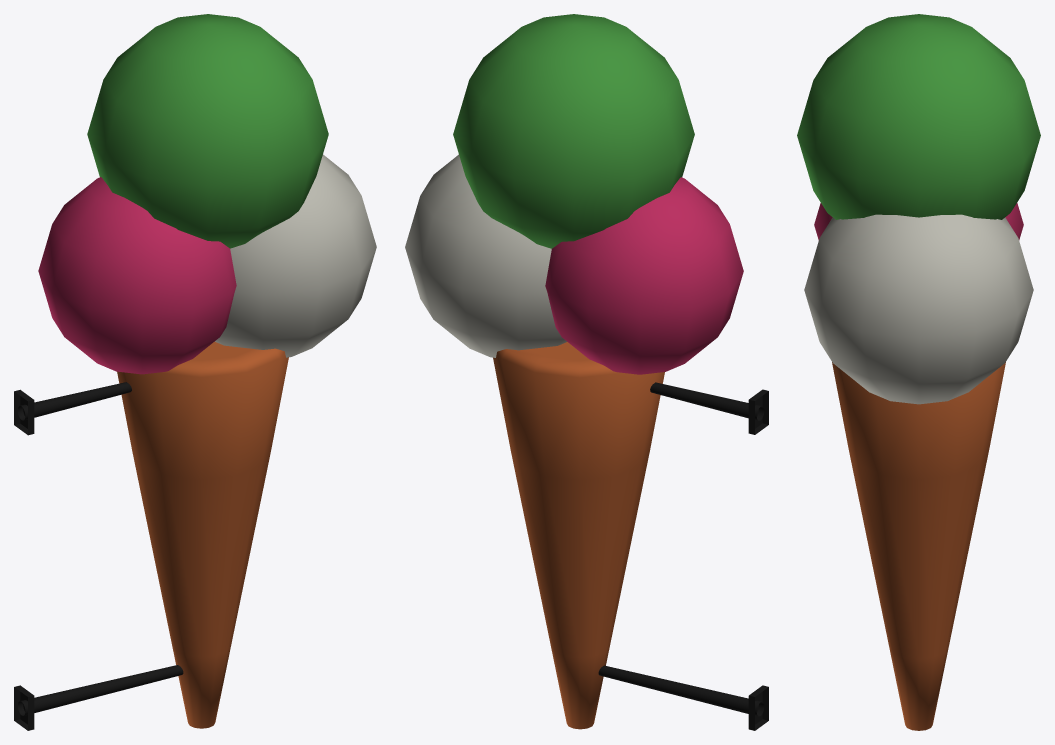
The model's file is Insegna_gelato.FBX.
3 views of the same model, side by side, from view 1: azimuth 30°, elevation 25°; view 2: azimuth 150°, elevation 25°; view 3: azimuth 270°, elevation 25° (orthographic).
Parts seen in each view (by area): view 1: Cylinder001; view 2: Cylinder001; view 3: Cylinder001.
Part boxes in pixels (x1=…): Cylinder001: x1=14, y1=14, x2=376, y2=730; Cylinder001: x1=405, y1=14, x2=768, y2=730; Cylinder001: x1=797, y1=14, x2=1040, y2=730.
Bounding box in the file's own units: 82.47 × 161 × 50.6.
